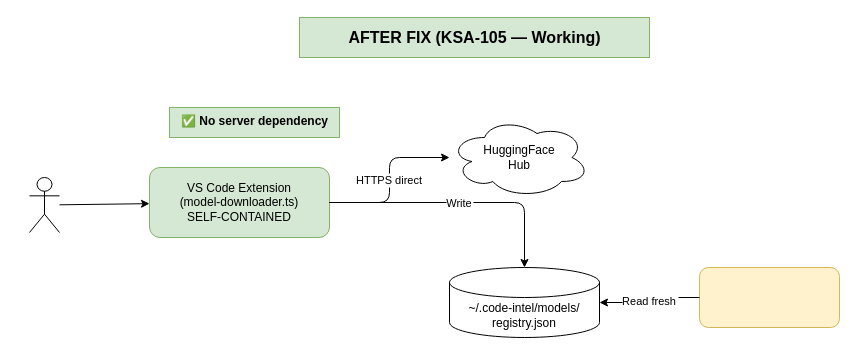
This 857x355 diagram has some shape labels left out. The centre of each missing label's shape, as x and y in pixels:
"Developer" goes at point (44, 204).
"MCP Server (reads fresh, no cache)" goes at point (769, 297).
